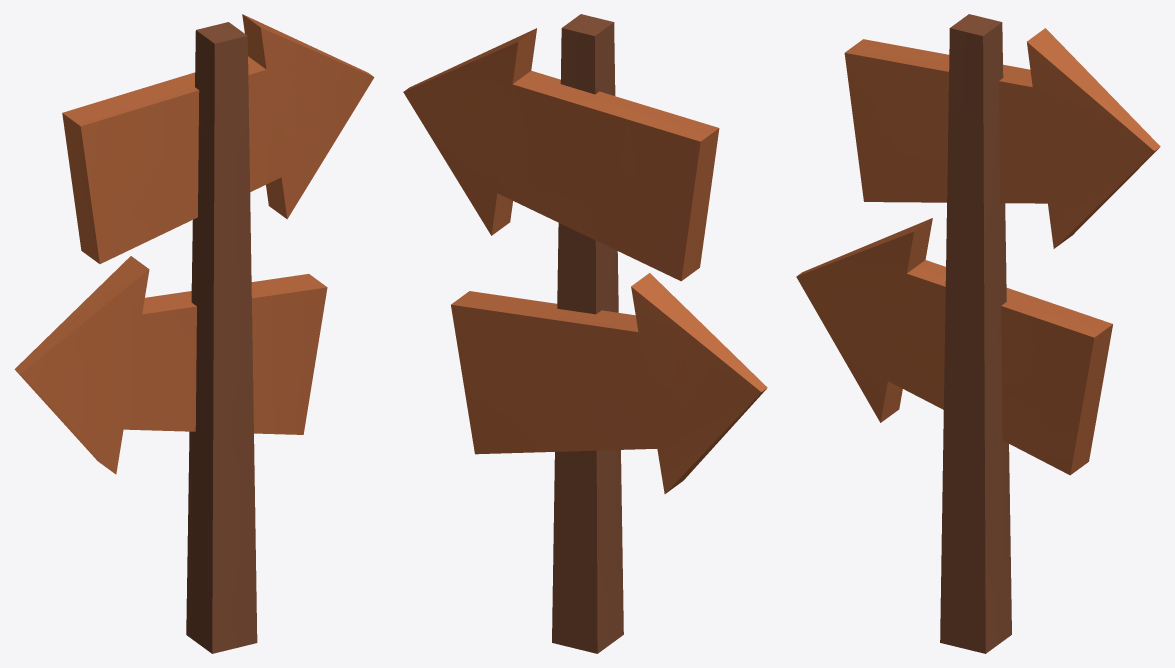
Rendered from arrows.glb.
3 views of the same model, side by side, from view 1: azimuth 30°, elevation 25°; view 2: azimuth 150°, elevation 25°; view 3: azimuth 330°, elevation 25° (orthographic).
Visible parts, largest first — view 1: arrows; view 2: arrows; view 3: arrows.
Part boxes in pixels (x1,y1,x2,y2): arrows: (14, 14, 374, 653); arrows: (403, 14, 767, 653); arrows: (796, 14, 1160, 653).
Bounding box in the file's own units: 0.55 × 0.9 × 0.0998.
Materials: 1 (1 with a texture image).
